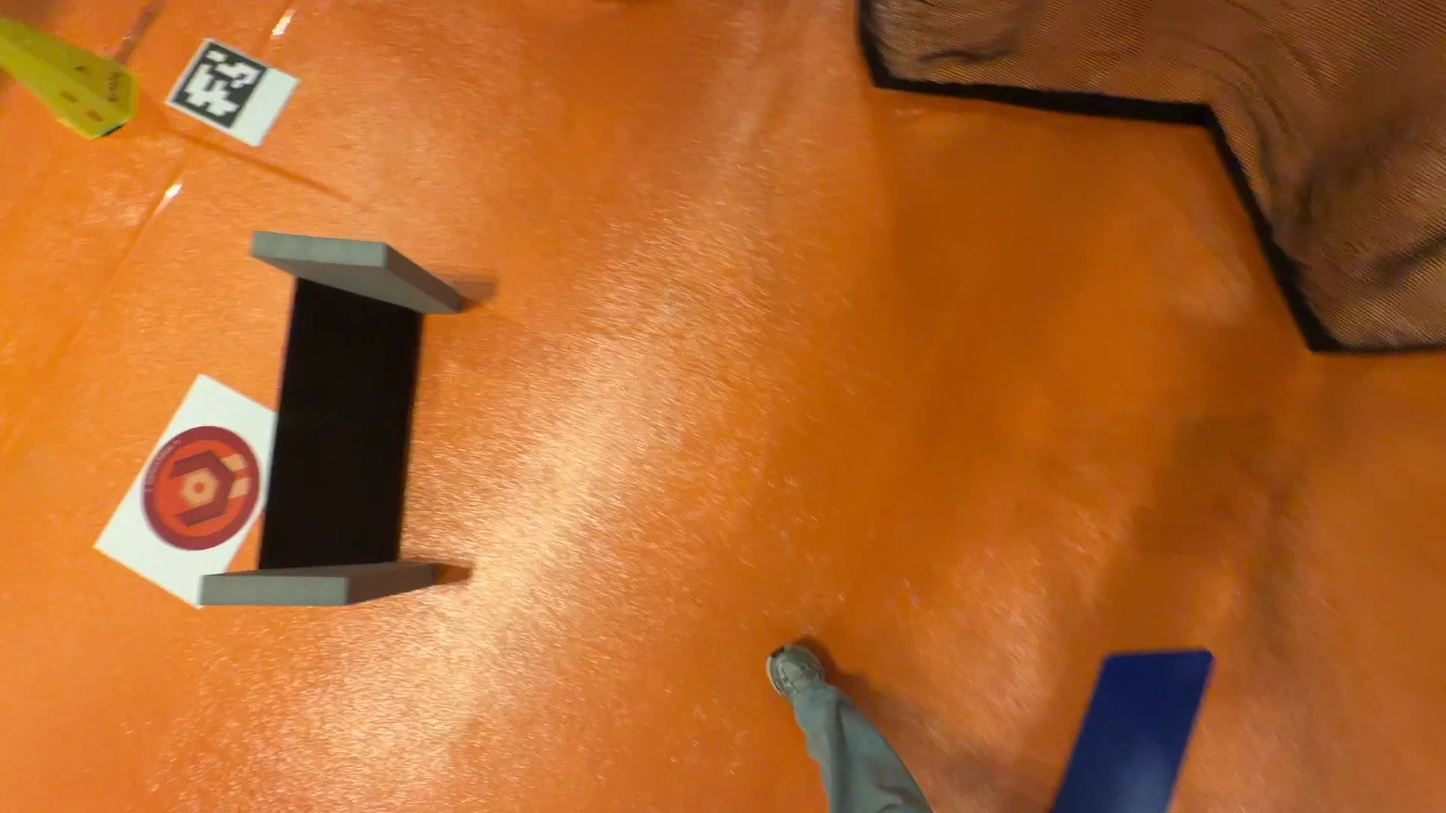landing_pad: (136, 416, 265, 549)
